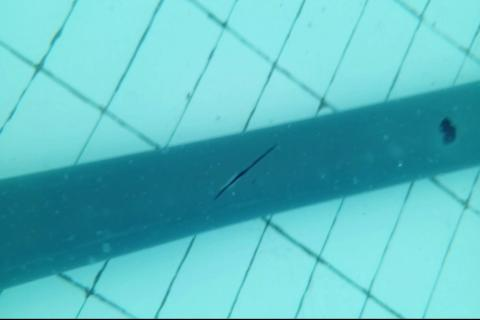kebocoran: (438, 115, 458, 147)
keretakan: (213, 142, 279, 201)
